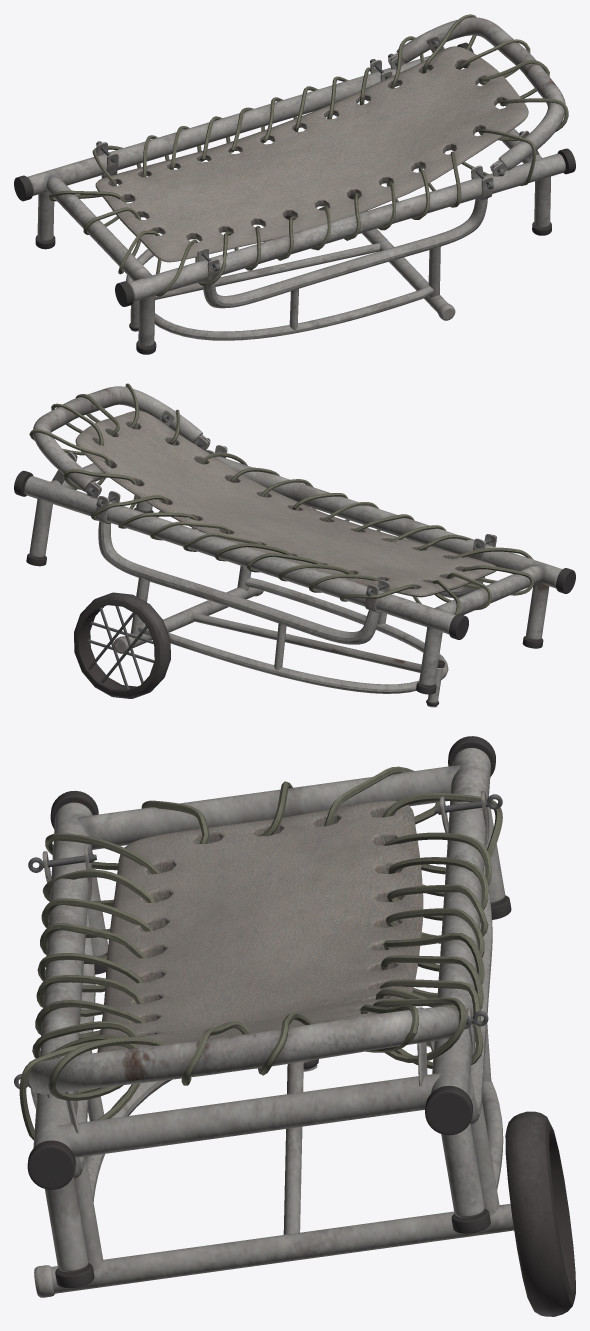
The model's file is Gurney_MeshVariant1.fbx.
3 views of the same model, one above another, from view 1: azimuth 30°, elevation 25°; view 2: azimuth 150°, elevation 25°; view 3: azimuth 270°, elevation 25° (orthographic). The views are drawn at different scales.
Parts seen in each view (by area): view 1: Gurney_Variation1; view 2: Gurney_Variation1; view 3: Gurney_Variation1.
Part boxes in pixels (bbox=[...]): Gurney_Variation1: bbox=[14, 14, 575, 354]; Gurney_Variation1: bbox=[14, 383, 575, 707]; Gurney_Variation1: bbox=[14, 736, 575, 1316].
Bounding box in the file's own units: 236 × 103 × 129.
